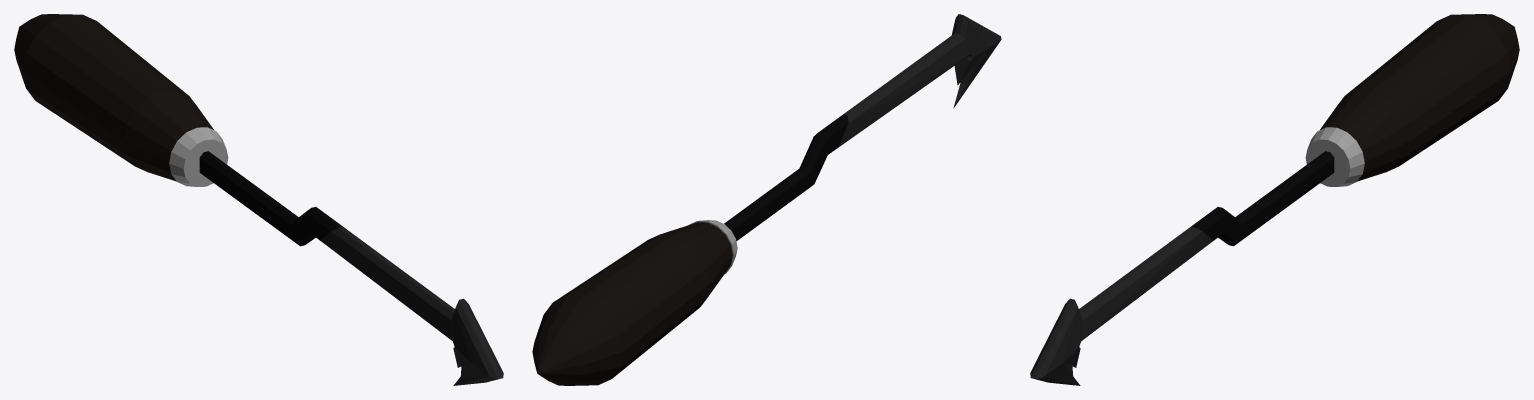
The model's file is brossdur11.obj.
3 renders of one model, left to right at view 1: azimuth 30°, elevation 25°; view 2: azimuth 150°, elevation 25°; view 3: azimuth 330°, elevation 25°, orthographic. The views are drawn at different scales.
Parts seen in each view (by area): view 1: Body; view 2: Body; view 3: Body.
Part boxes in pixels (<box>): Body: <box>14,14,503,385</box>; Body: <box>532,14,1001,385</box>; Body: <box>1030,14,1519,385</box>.
Size of the model in its own units: 0.4917 by 0.5209 by 4.69.
